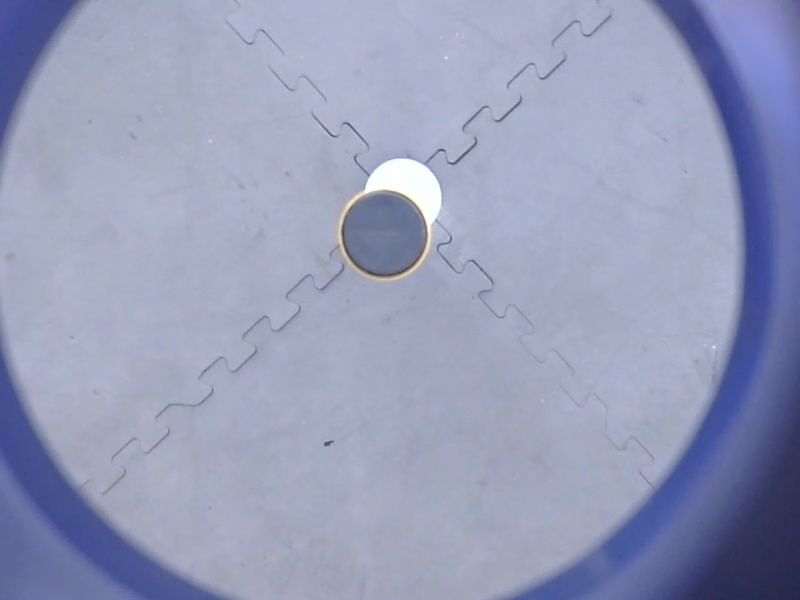tip: (332, 185, 434, 286)
